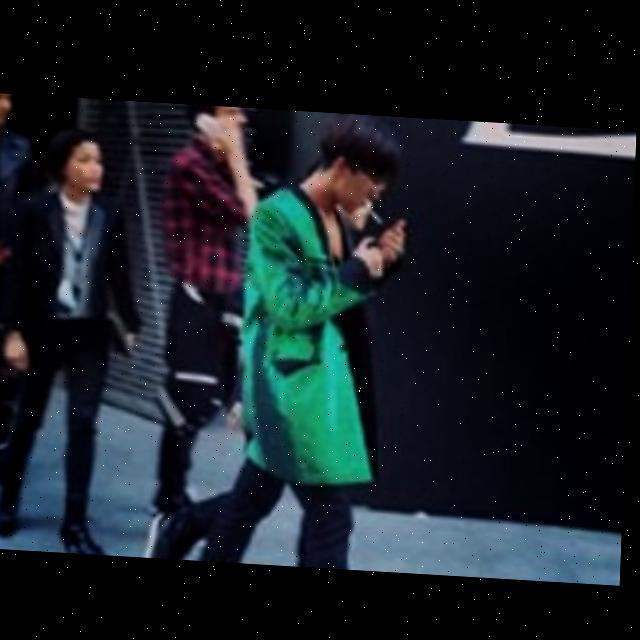cigarette: (363, 198, 386, 219)
